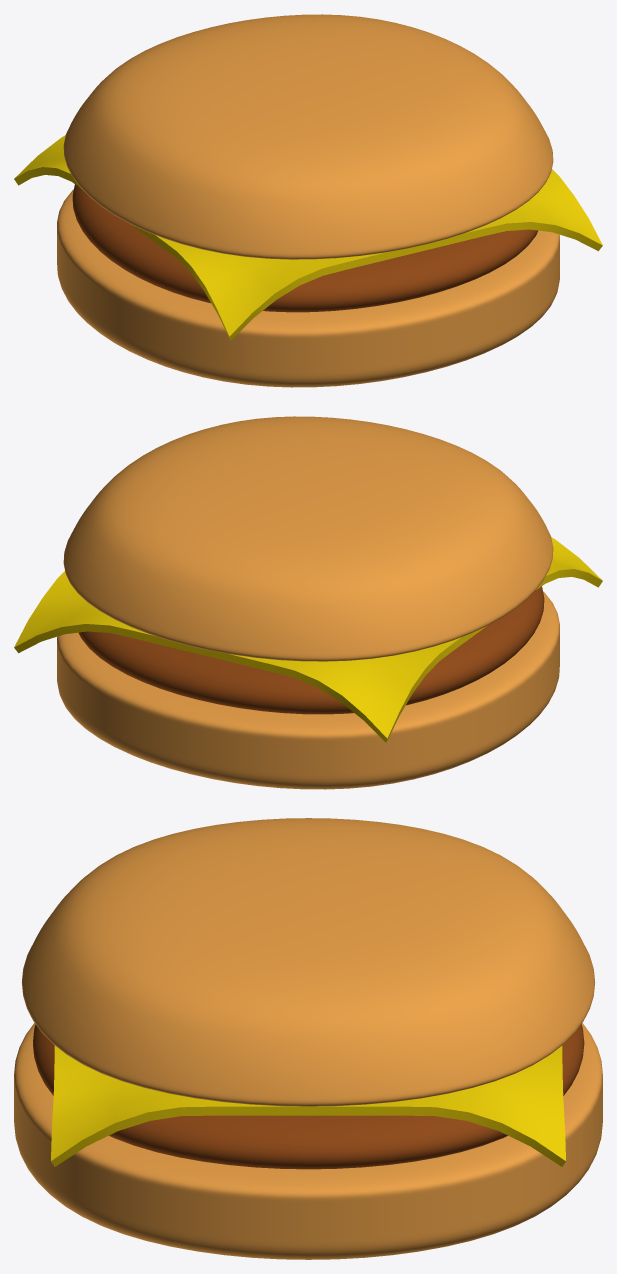
File: hamburger.glb
3 renders of one model, top to bottom at view 1: azimuth 30°, elevation 25°; view 2: azimuth 150°, elevation 25°; view 3: azimuth 270°, elevation 25°, orthographic. The views are drawn at different scales.
Parts seen in each view (by area): view 1: Cube.002, Cube, Cube.001, Plane; view 2: Cube.002, Cube, Cube.001, Plane; view 3: Cube.002, Cube, Plane, Cube.001.
Part boxes in pixels (left/top/right/bottom): Cube.002: left=63, top=14, right=553, bottom=259; Cube: left=57, top=189, right=559, bottom=387; Cube.001: left=72, top=184, right=537, bottom=312; Plane: left=14, top=135, right=602, bottom=340; Cube.002: left=63, top=416, right=553, bottom=661; Cube: left=57, top=591, right=559, bottom=789; Cube.001: left=78, top=586, right=544, bottom=714; Plane: left=14, top=537, right=602, bottom=742; Cube.002: left=21, top=818, right=595, bottom=1106; Cube: left=14, top=1023, right=602, bottom=1259; Plane: left=51, top=1045, right=565, bottom=1166; Cube.001: left=33, top=1024, right=584, bottom=1169.
Bounding box in the file's own units: 7.46 × 3.76 × 7.46.
